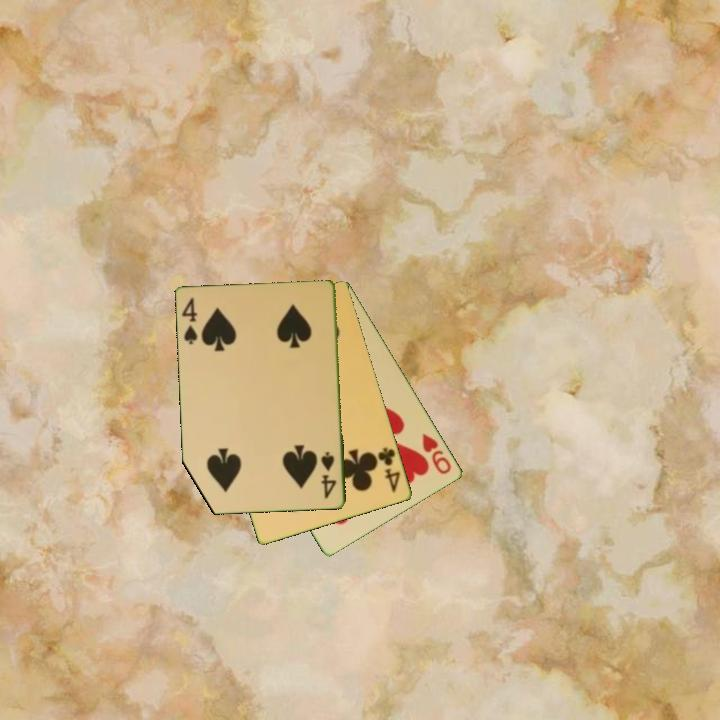4c: (374, 444, 403, 496)
4s: (179, 294, 201, 347), (318, 448, 339, 501)
9h: (419, 430, 455, 477)
